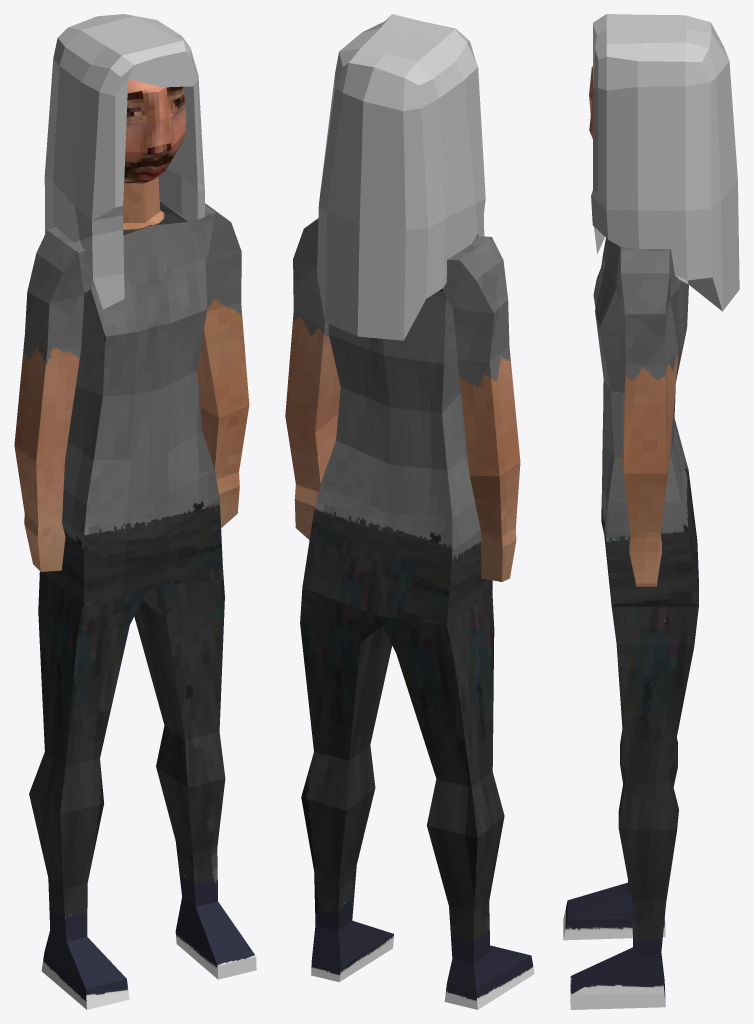
Rendered from charlie.obj.
3 views of the same model, side by side, from view 1: azimuth 30°, elevation 25°; view 2: azimuth 150°, elevation 25°; view 3: azimuth 270°, elevation 25° (orthographic). The views are drawn at different scales.
Parts seen in each view (by area): view 1: charlie_Material.081, charlie_Material.182; view 2: charlie_Material.081, charlie_Material.182; view 3: charlie_Material.081, charlie_Material.182.
Boxes of the visible parts, x1,y1,x2,y2 form: charlie_Material.081: (14, 79, 256, 1009); charlie_Material.182: (44, 14, 204, 309); charlie_Material.081: (285, 218, 534, 1009); charlie_Material.182: (317, 14, 485, 340); charlie_Material.081: (563, 66, 698, 1009); charlie_Material.182: (591, 14, 739, 311).
Bounding box in the file's own units: 0.4079 × 1.72 × 0.292.
